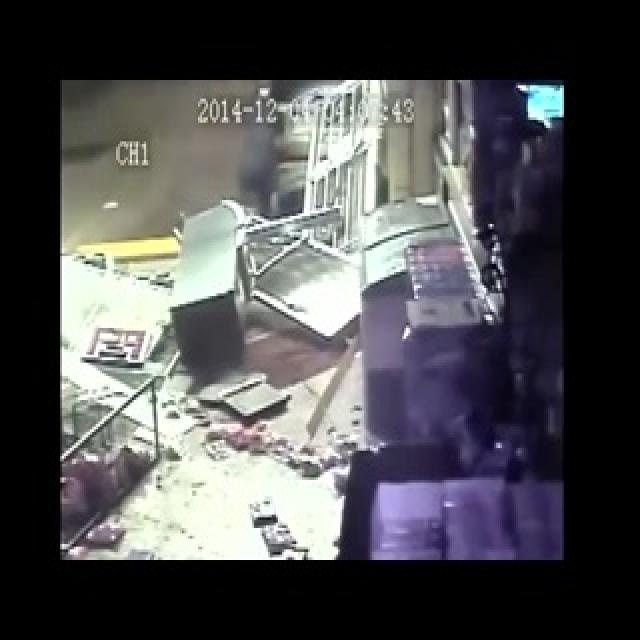thief: (229, 95, 295, 188)
